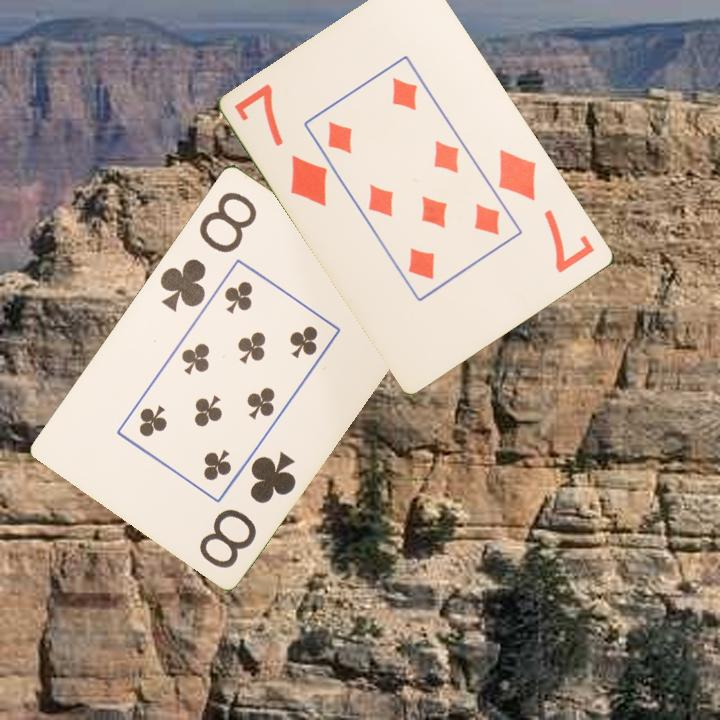7d: (495, 145, 599, 276), (231, 80, 331, 210)
8c: (155, 187, 260, 314), (195, 447, 300, 571)
